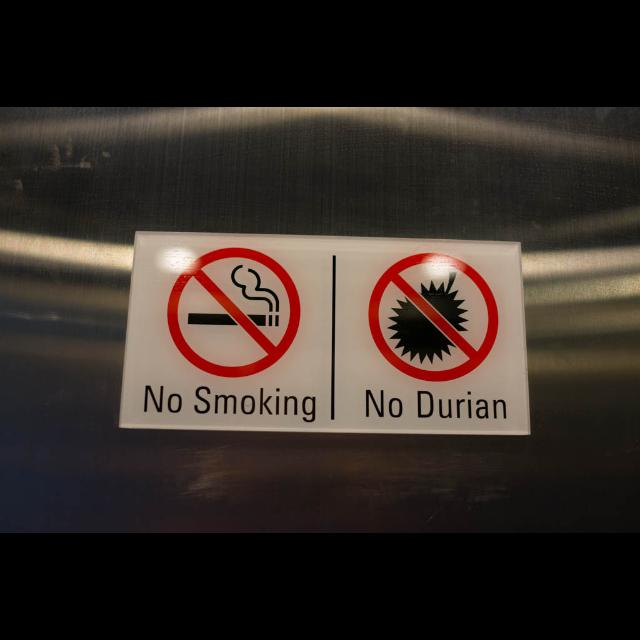cam hut thuoc: (119, 233, 336, 431)
